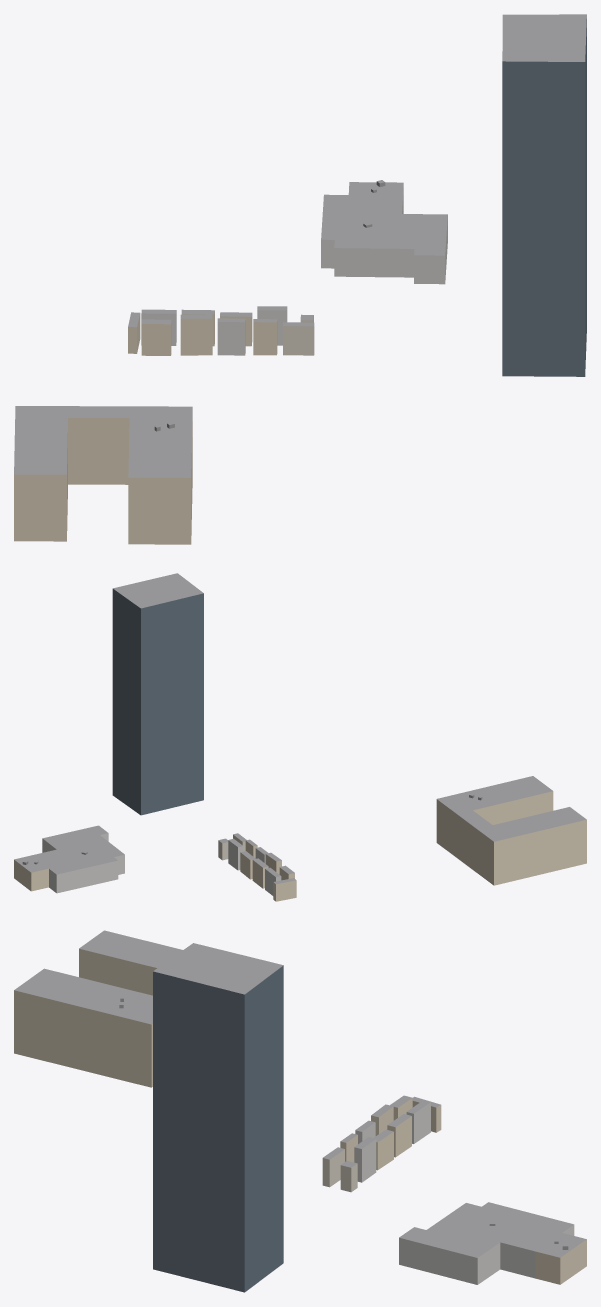
File: building_-5_-4.glb
3 renders of one model, top to bottom at view 1: azimuth 30°, elevation 25°; view 2: azimuth 150°, elevation 25°; view 3: azimuth 270°, elevation 25°, orthographic. The views are drawn at different scales.
Visible parts, largest first — view 1: glass_dark, roof, sandstone, concrete_light, concrete_warm; view 2: glass_dark, sandstone, roof, concrete_light; view 3: glass_dark, roof, sandstone, concrete_light, concrete_warm.
Part boxes in pixels (x1,y1,x2,y2): glass_dark: [502, 19, 586, 376]; roof: [14, 14, 586, 477]; sandstone: [14, 187, 403, 544]; concrete_light: [141, 201, 447, 355]; concrete_warm: [283, 316, 314, 355]; glass_dark: [112, 589, 203, 815]; sandstone: [14, 791, 586, 901]; roof: [14, 573, 586, 884]; concrete_light: [42, 833, 281, 895]; glass_dark: [153, 965, 283, 1292]; roof: [14, 930, 586, 1257]; sandstone: [14, 948, 586, 1284]; concrete_light: [354, 1102, 574, 1284]; concrete_warm: [322, 1149, 357, 1192].
Size of the model in its own units: 284 by 132 by 230.
